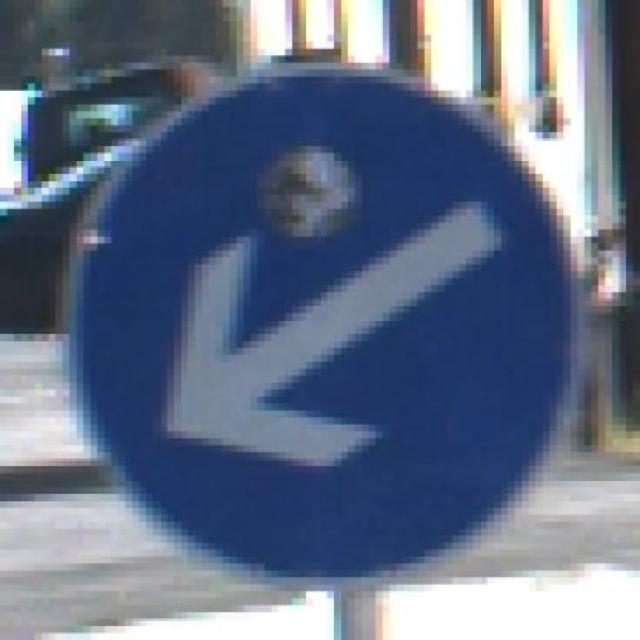Keep-Left: (63, 57, 599, 606)
